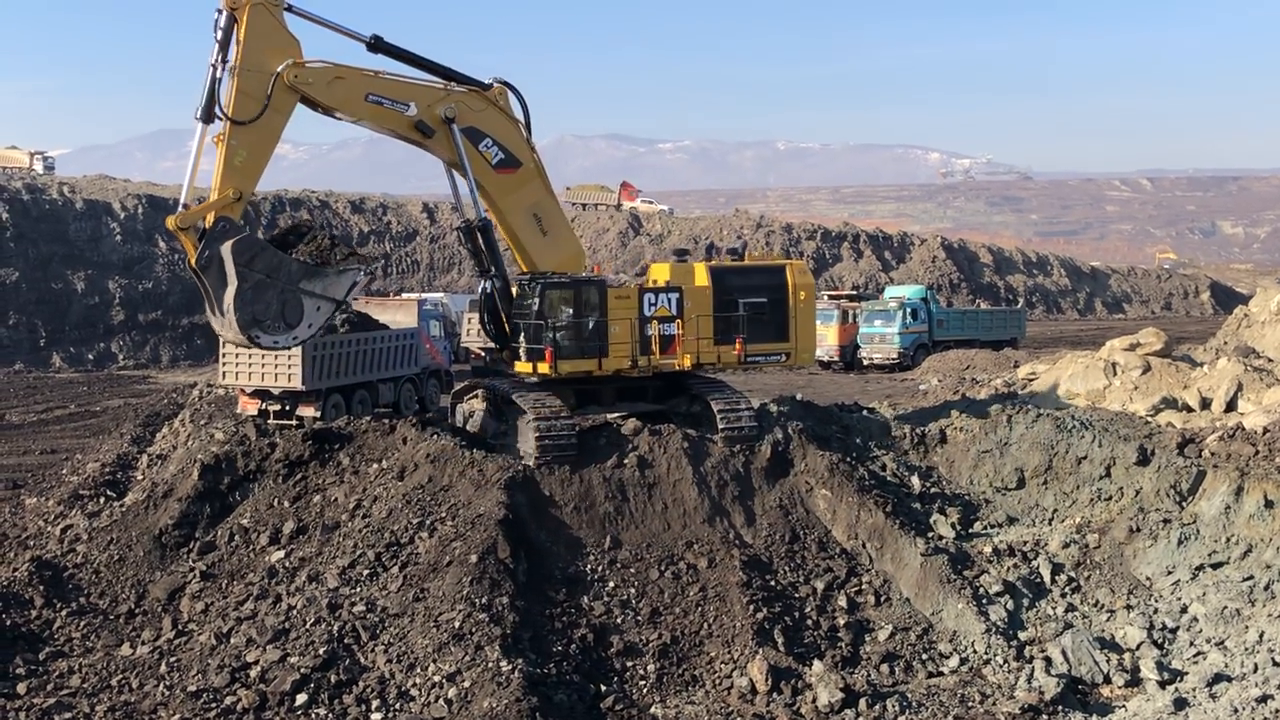full: (183, 213, 382, 352)
